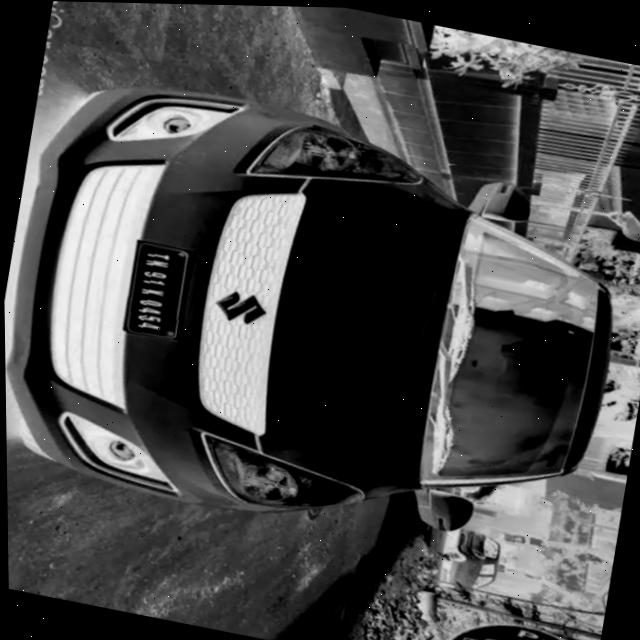Non_registered: (122, 242, 188, 341)
